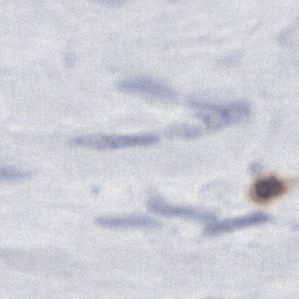Lymphocyte: (253, 172, 286, 201)
